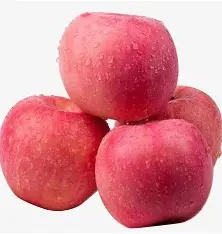ripe_apple: (55, 7, 181, 122), (93, 118, 212, 228), (1, 91, 107, 211), (138, 85, 222, 162)
